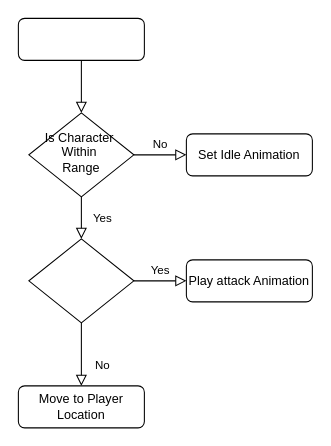
Some shapes in this 331 by 446 pixel diagram are drawn without their labels. Each missing label, with the centre of its shape:
"Initialize Enemy" belongs at point (80, 38).
"Is Character In Range of Attack" belongs at point (81, 280).
